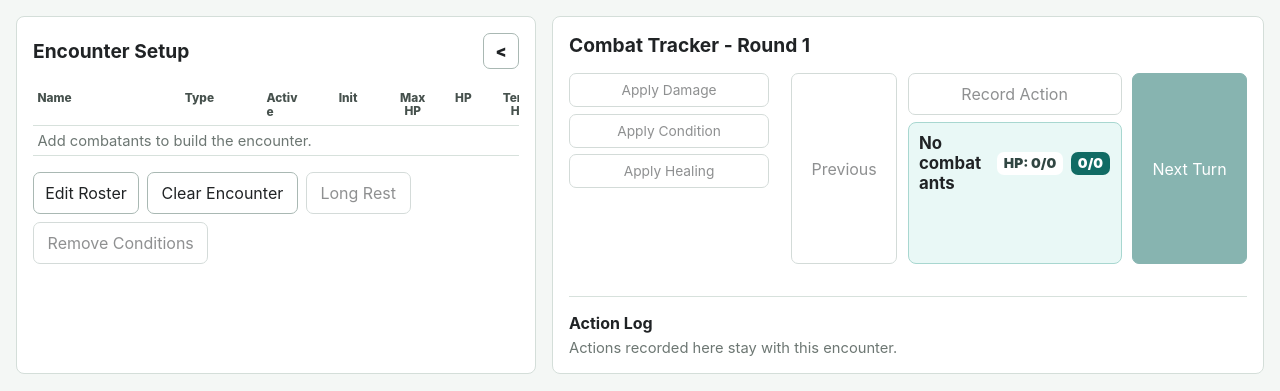
Test case: App workflow › collapses and expands the encounter setup panel
The image size is (1280, 391).
Check: the table is shown, box [33,85,519,156]
Click the button named "Collapse encounter setup" at (501, 51), box [483,33,519,69]
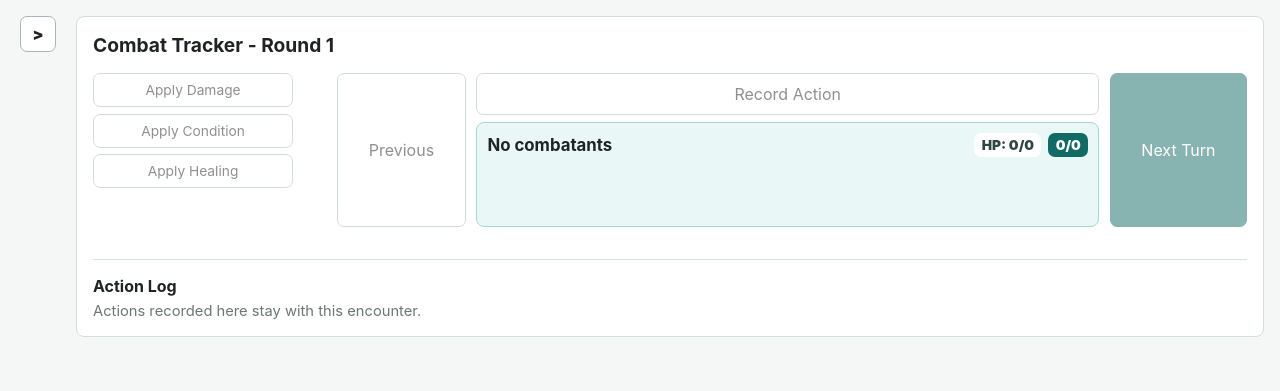
Check: the table is gone
Check: the heading "Encounter Setup" is gone
Check: the button "Long Rest" is gone
Click the button named "Expand encounter setup" at (38, 34), box [20,16,56,52]
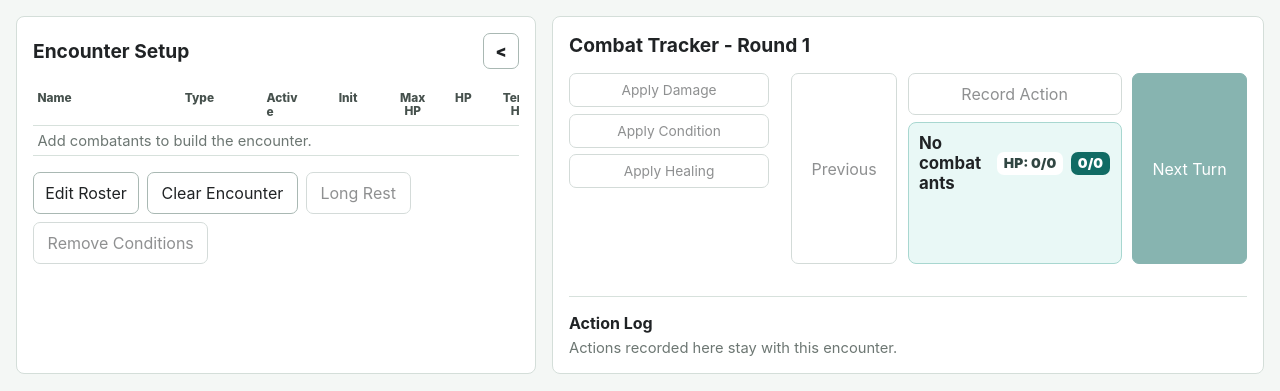
Check: the table is shown, box [33,85,519,156]
